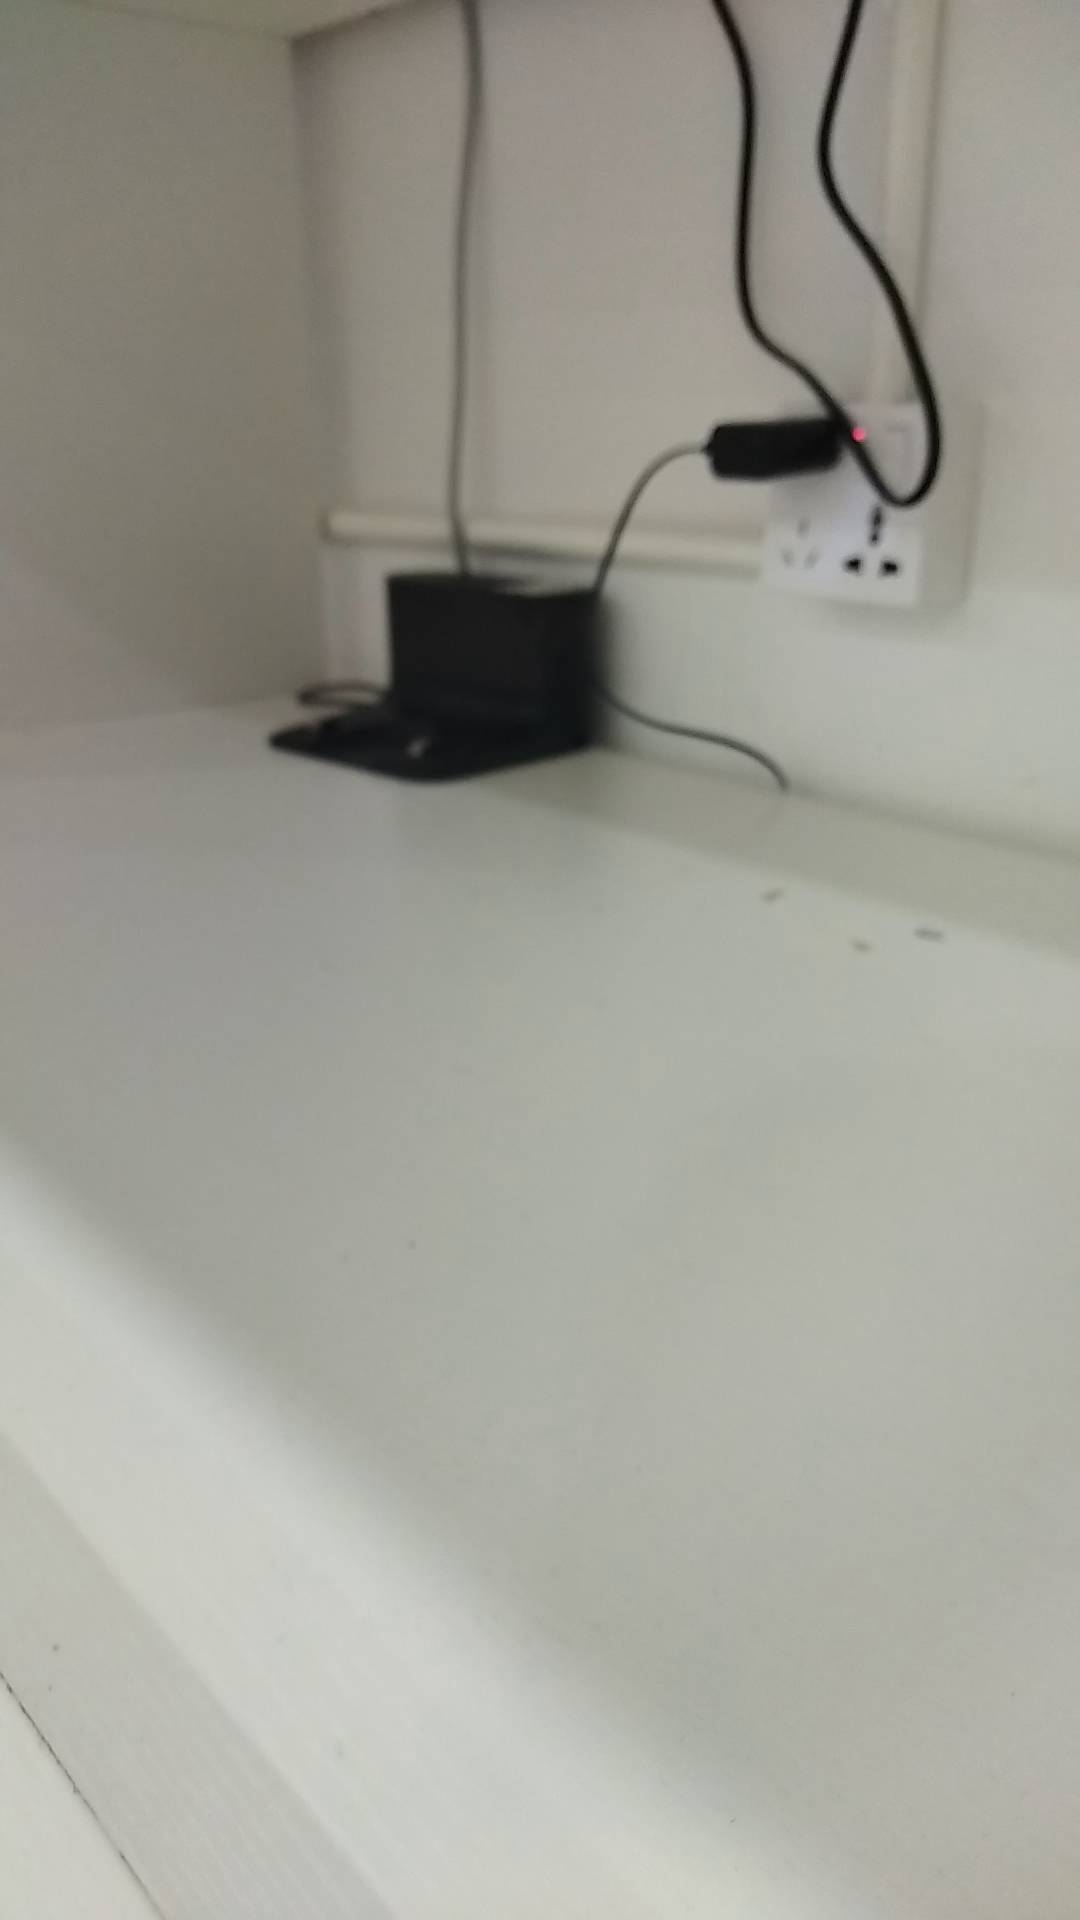recharge seat: (266, 570, 607, 785)
